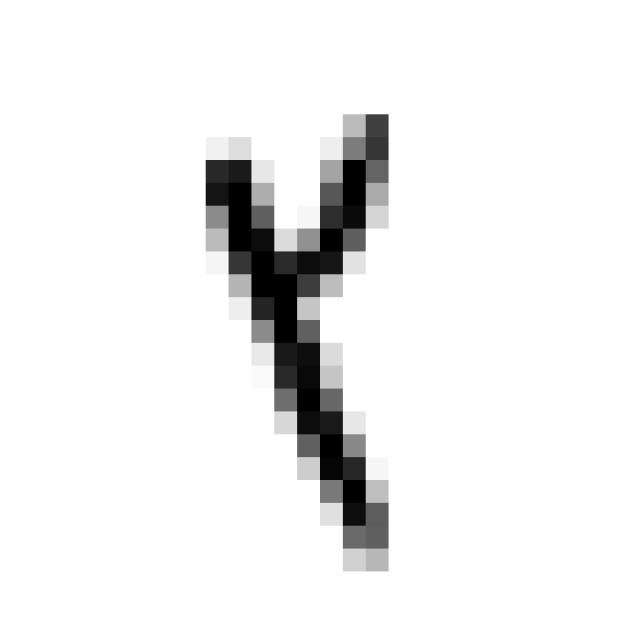3 -three-: (185, 89, 427, 577)
